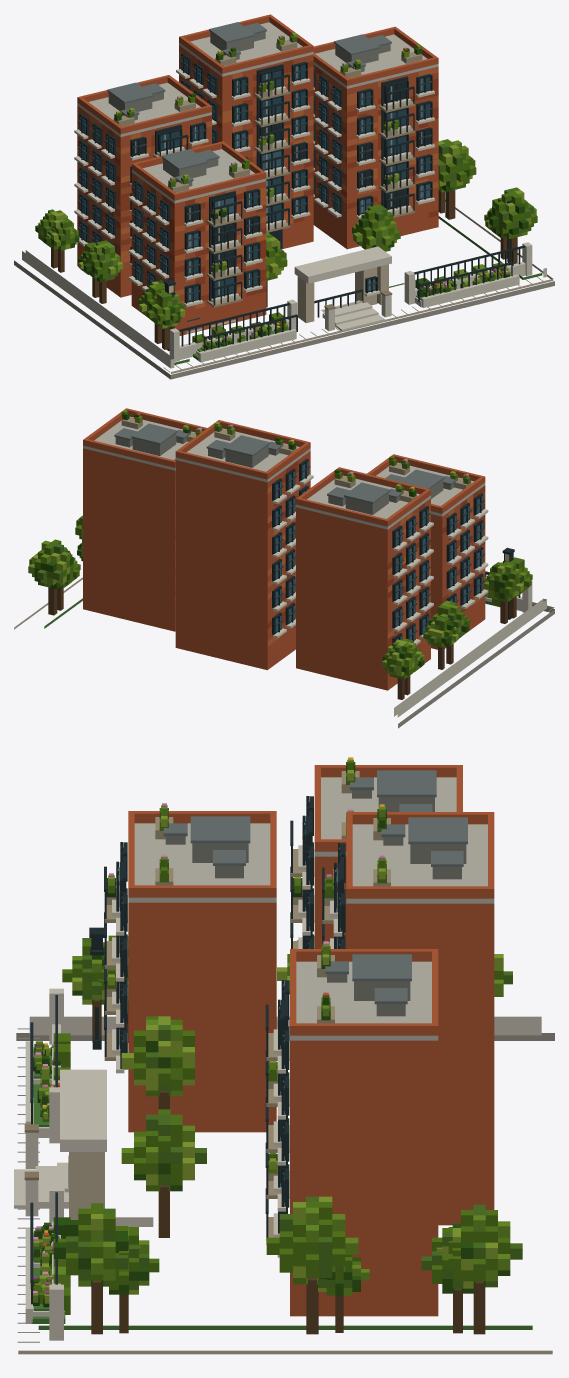
File: SM_StreetFrontage_022.fbx
The picture shows the model from 3 angles, top to bottom: view 1: azimuth 30°, elevation 25°; view 2: azimuth 150°, elevation 25°; view 3: azimuth 270°, elevation 25°; orthographic projection. The views are drawn at different scales.
Visible parts, largest first — view 1: SM_StreetFrontage_022; view 2: SM_StreetFrontage_022; view 3: SM_StreetFrontage_022.
Boxes of the visible parts, box(x1,y1,x2,y2) form: SM_StreetFrontage_022: box(14, 14, 554, 379); SM_StreetFrontage_022: box(14, 408, 554, 728); SM_StreetFrontage_022: box(14, 757, 554, 1354).
Bounding box in the file's own units: 32 × 22.4 × 16.73.
